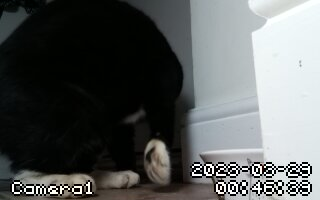bad: (8, 9, 186, 196)
